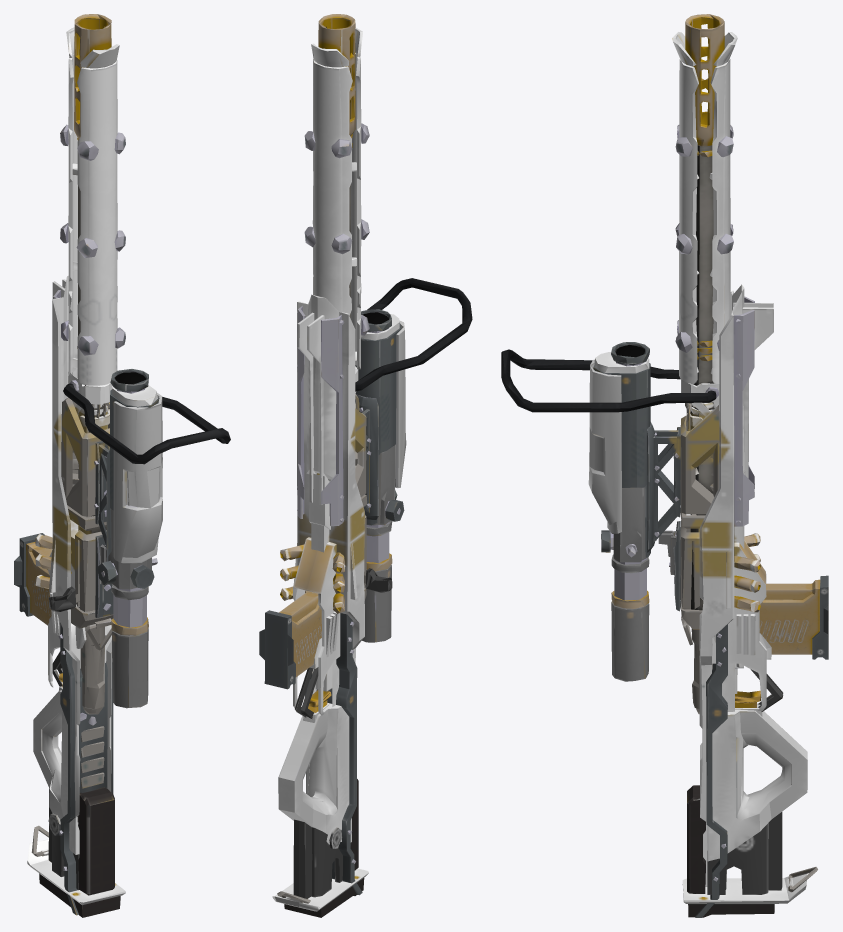
File: weapon_sniper.glb
The picture shows the model from 3 angles, left to right: view 1: azimuth 30°, elevation 25°; view 2: azimuth 150°, elevation 25°; view 3: azimuth 270°, elevation 25°; orthographic projection.
Visible parts, largest first — view 1: 平面; view 2: 平面; view 3: 平面.
Part boxes in pixels (box(x1,y1,x2,y2)): 平面: box(14, 14, 230, 917); 平面: box(259, 14, 472, 917); 平面: box(501, 14, 828, 917).
Size of the model in its own units: 0.1315 by 1.15 by 0.3849.
6 materials, 6 textured.
